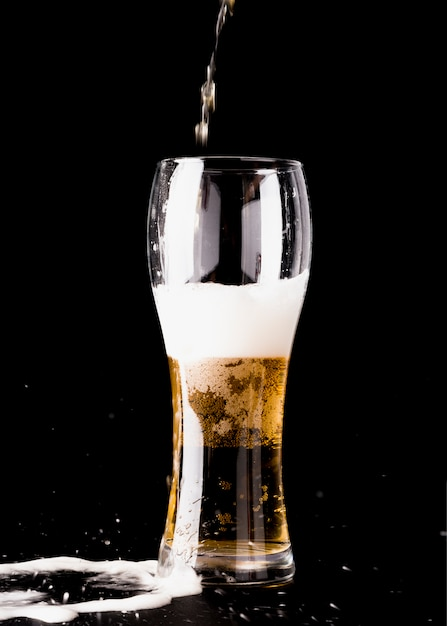alcohol: (148, 152, 318, 589)
